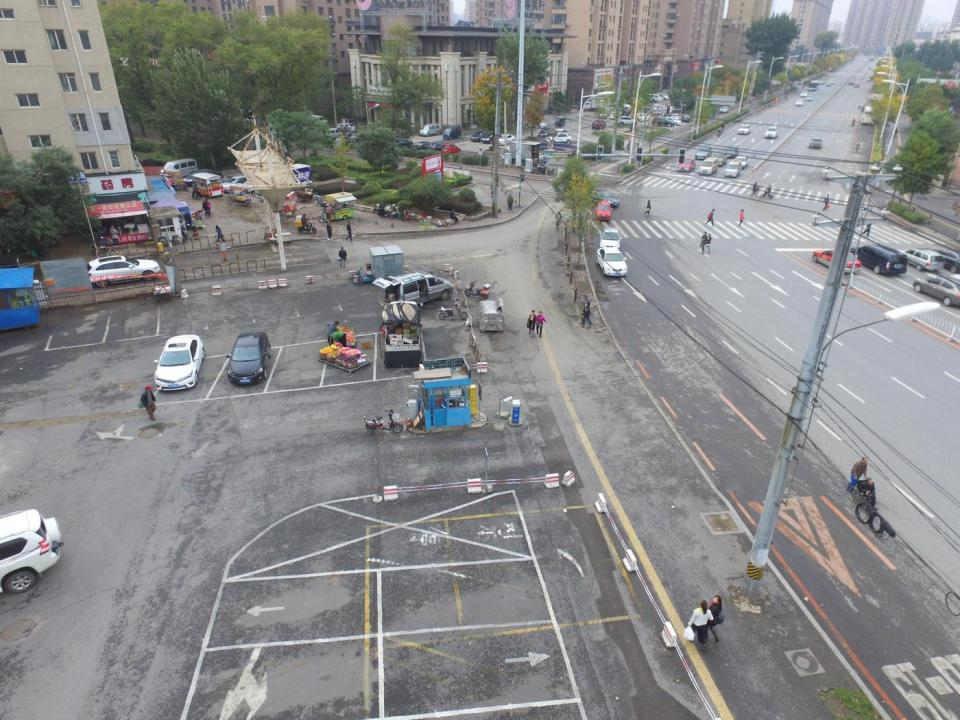bus: (808, 79, 820, 91)
car: (0, 510, 64, 597), (154, 333, 202, 394), (85, 256, 160, 288), (227, 330, 269, 387), (812, 248, 864, 278), (912, 274, 960, 306), (597, 246, 626, 279), (587, 189, 621, 211), (179, 167, 223, 183), (600, 229, 624, 258), (217, 174, 251, 190), (545, 132, 573, 145), (598, 199, 612, 223), (694, 146, 712, 162), (440, 144, 462, 156), (391, 138, 412, 150), (674, 158, 694, 170), (721, 144, 738, 158), (308, 114, 329, 125), (479, 131, 500, 142), (344, 131, 366, 141), (538, 127, 556, 138), (591, 117, 606, 130), (762, 126, 779, 137), (734, 154, 747, 168), (657, 116, 675, 126), (616, 116, 636, 125), (414, 140, 430, 151), (498, 134, 514, 145), (524, 120, 546, 128), (714, 152, 726, 166), (646, 93, 664, 102), (472, 131, 488, 141), (662, 117, 682, 125), (736, 125, 750, 135), (430, 143, 444, 153), (809, 138, 821, 148), (657, 93, 670, 101), (718, 105, 729, 114), (636, 114, 649, 121), (621, 103, 634, 110), (608, 111, 619, 119), (598, 110, 607, 118), (682, 114, 690, 122), (796, 99, 802, 107), (860, 73, 865, 81), (807, 95, 813, 101), (848, 80, 854, 86), (800, 91, 807, 96), (826, 81, 832, 86), (866, 78, 872, 82), (854, 83, 858, 88), (819, 80, 824, 84), (798, 80, 803, 84)
van: (381, 301, 422, 368), (372, 273, 453, 304), (850, 243, 908, 277), (904, 250, 946, 274), (158, 158, 198, 177), (938, 250, 960, 272), (861, 105, 879, 125), (698, 157, 718, 175), (722, 160, 740, 178), (443, 126, 461, 142), (417, 123, 442, 134), (318, 129, 341, 139), (338, 124, 358, 133)
